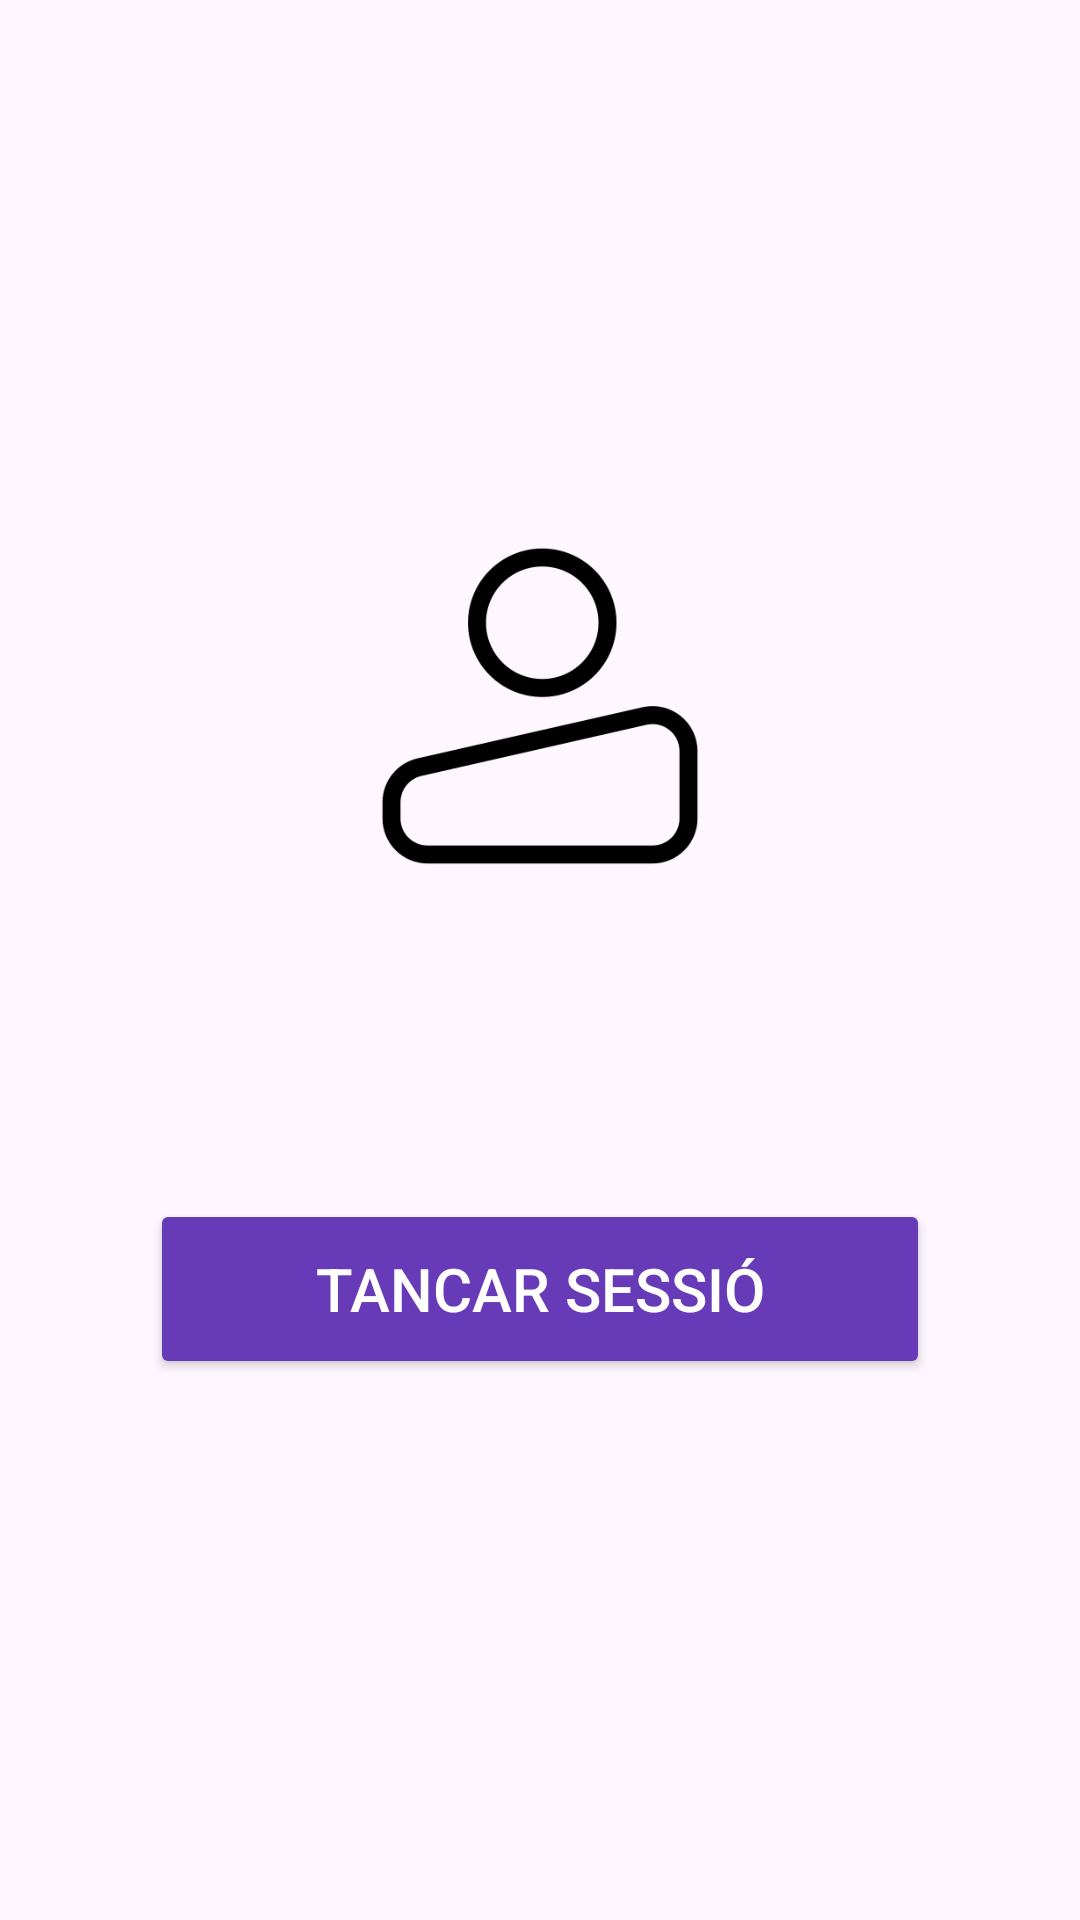

Where icons sit on this 1080w x 1920h app screen, as bbox=[x1, y1, x2, y2]:
user: bbox=[382, 548, 698, 864]
